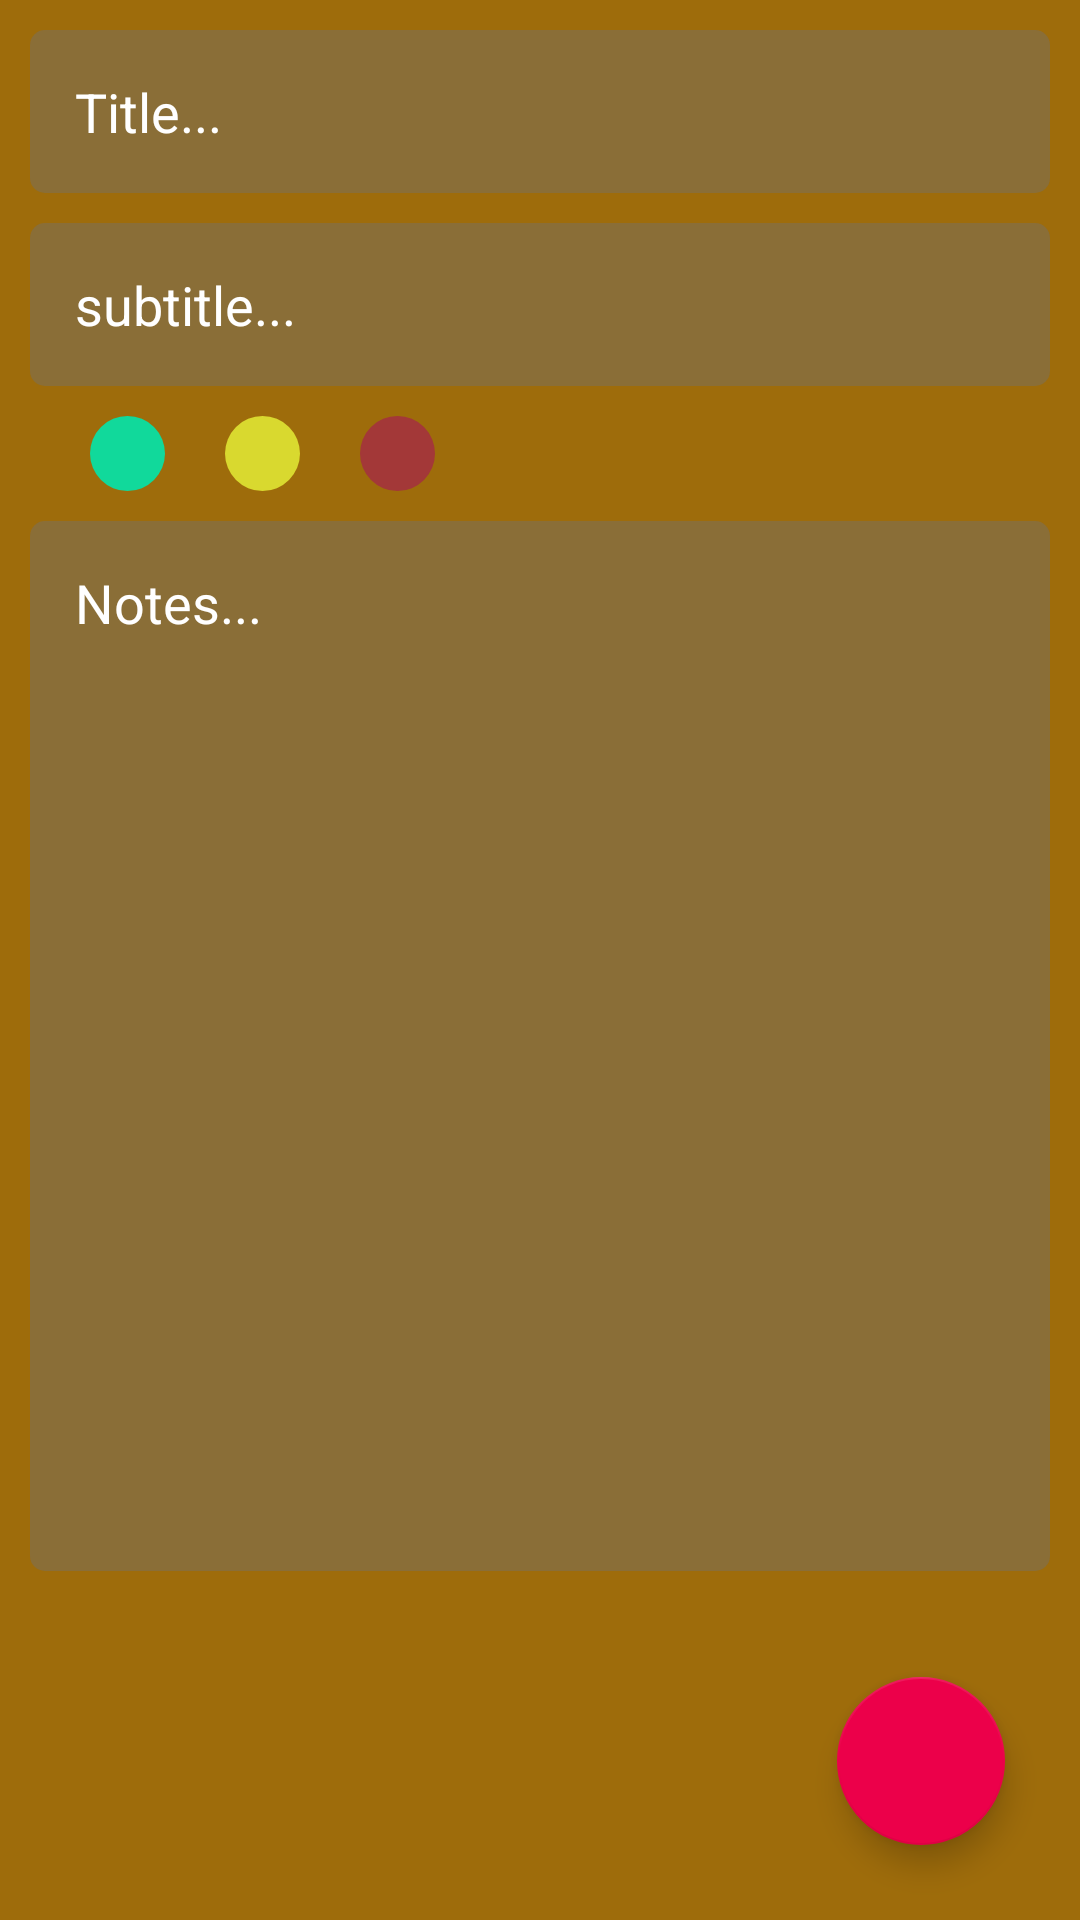

Point at icon controls on the screen. Image size 1080 x 1920, points as point (x, y).
greendot: point (127, 453)
yellowdot: point (262, 453)
